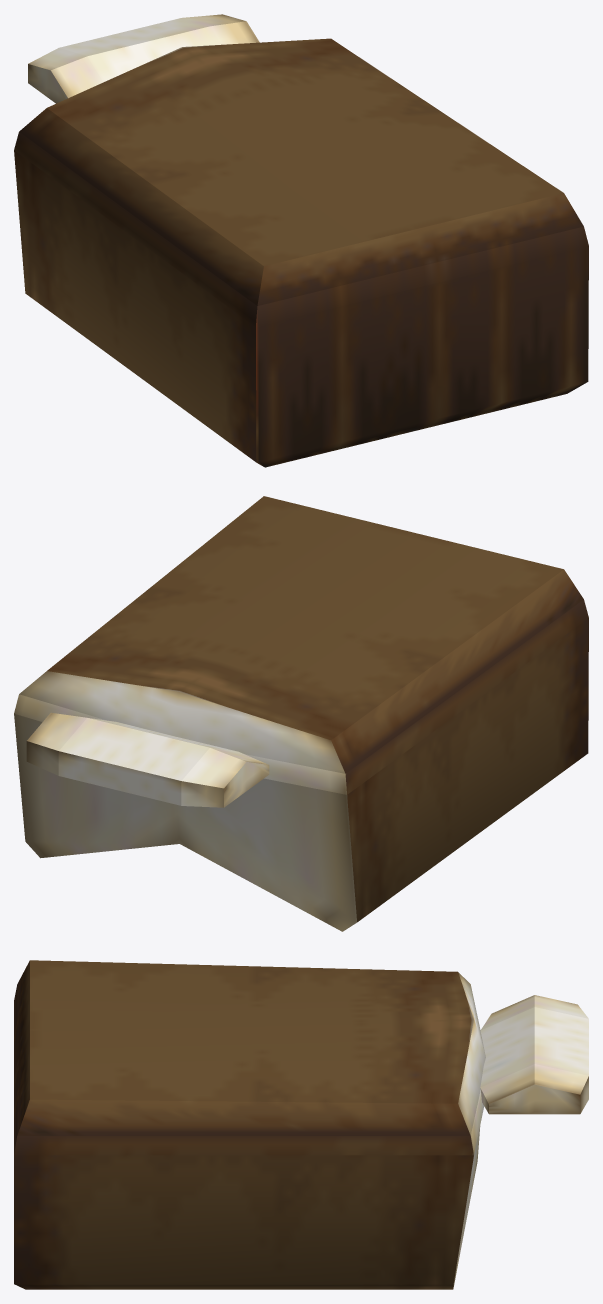
The model's file is Inside_Poly_Bed_02_Blanket_01.obj.
3 renders of one model, top to bottom at view 1: azimuth 30°, elevation 25°; view 2: azimuth 150°, elevation 25°; view 3: azimuth 270°, elevation 25°, orthographic. The views are drawn at different scales.
Parts seen in each view (by area): view 1: Cube.003, Cube.004; view 2: Cube.003, Cube.004; view 3: Cube.003, Cube.004.
Boxes of the visible parts, left/top/right/bottom form: Cube.003: left=14, top=38, right=588, bottom=467; Cube.004: left=28, top=14, right=259, bottom=103; Cube.003: left=14, top=496, right=588, bottom=931; Cube.004: left=26, top=712, right=269, bottom=807; Cube.003: left=14, top=960, right=485, bottom=1289; Cube.004: left=480, top=995, right=588, bottom=1114.
Bounding box in the file's own units: 1.01 × 0.6109 × 1.59.
Materials: 1 (1 with a texture image).
